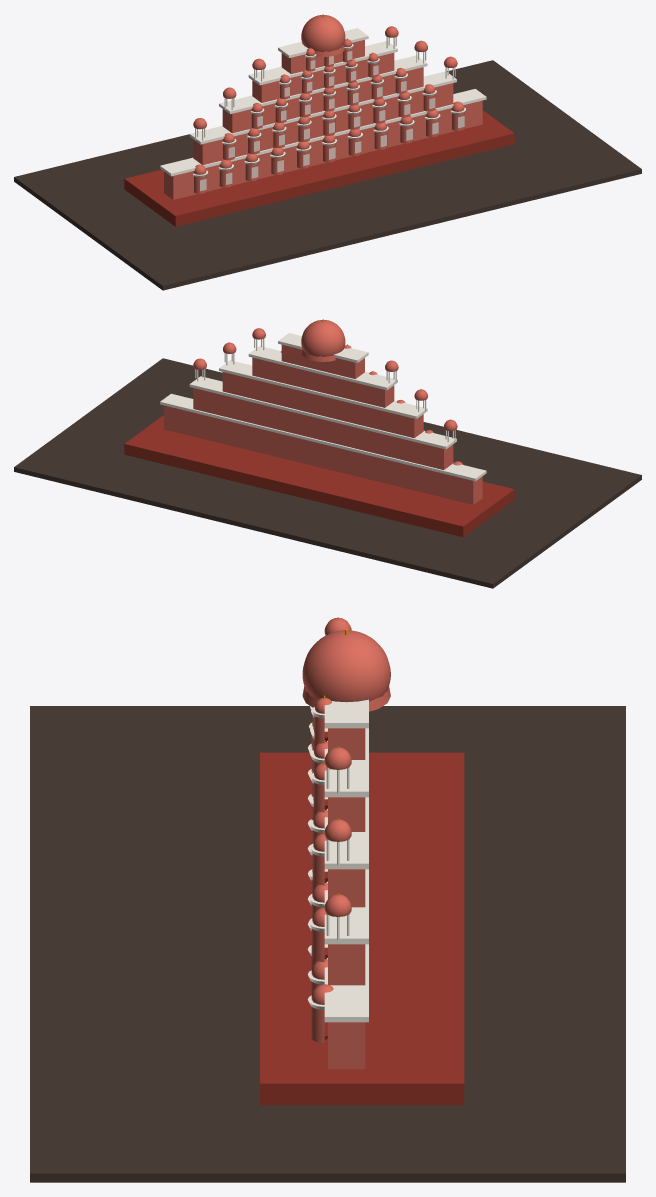
The model's file is hawa_mahal.glb.
The picture shows the model from 3 angles, top to bottom: view 1: azimuth 30°, elevation 25°; view 2: azimuth 150°, elevation 25°; view 3: azimuth 270°, elevation 25°; orthographic projection. The views are drawn at different scales.
Parts seen in each view (by area): view 1: HawaMahal, SharadMandir, RatanMandir, VichitraMandir, PrakashMandir, HawaMandir; view 2: HawaMahal, SharadMandir, RatanMandir, VichitraMandir, PrakashMandir, HawaMandir; view 3: HawaMahal, SharadMandir, RatanMandir, VichitraMandir, PrakashMandir, HawaMandir.
Part boxes in pixels (x1=…): HawaMahal: x1=14, y1=14, x2=641, y2=290; SharadMandir: x1=160, y1=89, x2=486, y2=199; RatanMandir: x1=189, y1=56, x2=457, y2=164; VichitraMandir: x1=219, y1=40, x2=427, y2=133; PrakashMandir: x1=248, y1=26, x2=398, y2=102; HawaMandir: x1=278, y1=28, x2=368, y2=74; HawaMahal: x1=14, y1=319, x2=641, y2=588; SharadMandir: x1=160, y1=393, x2=486, y2=504; RatanMandir: x1=189, y1=358, x2=457, y2=469; VichitraMandir: x1=219, y1=342, x2=427, y2=438; PrakashMandir: x1=248, y1=328, x2=398, y2=407; HawaMandir: x1=278, y1=333, x2=368, y2=378; HawaMahal: x1=30, y1=629, x2=625, y2=1182; SharadMandir: x1=307, y1=743, x2=368, y2=1069; RatanMandir: x1=309, y1=722, x2=368, y2=985; VichitraMandir: x1=310, y1=706, x2=368, y2=907; PrakashMandir: x1=311, y1=617, x2=368, y2=831; HawaMandir: x1=312, y1=695, x2=368, y2=759.
Bounding box in the file's own units: 65 × 20.7 × 35.
